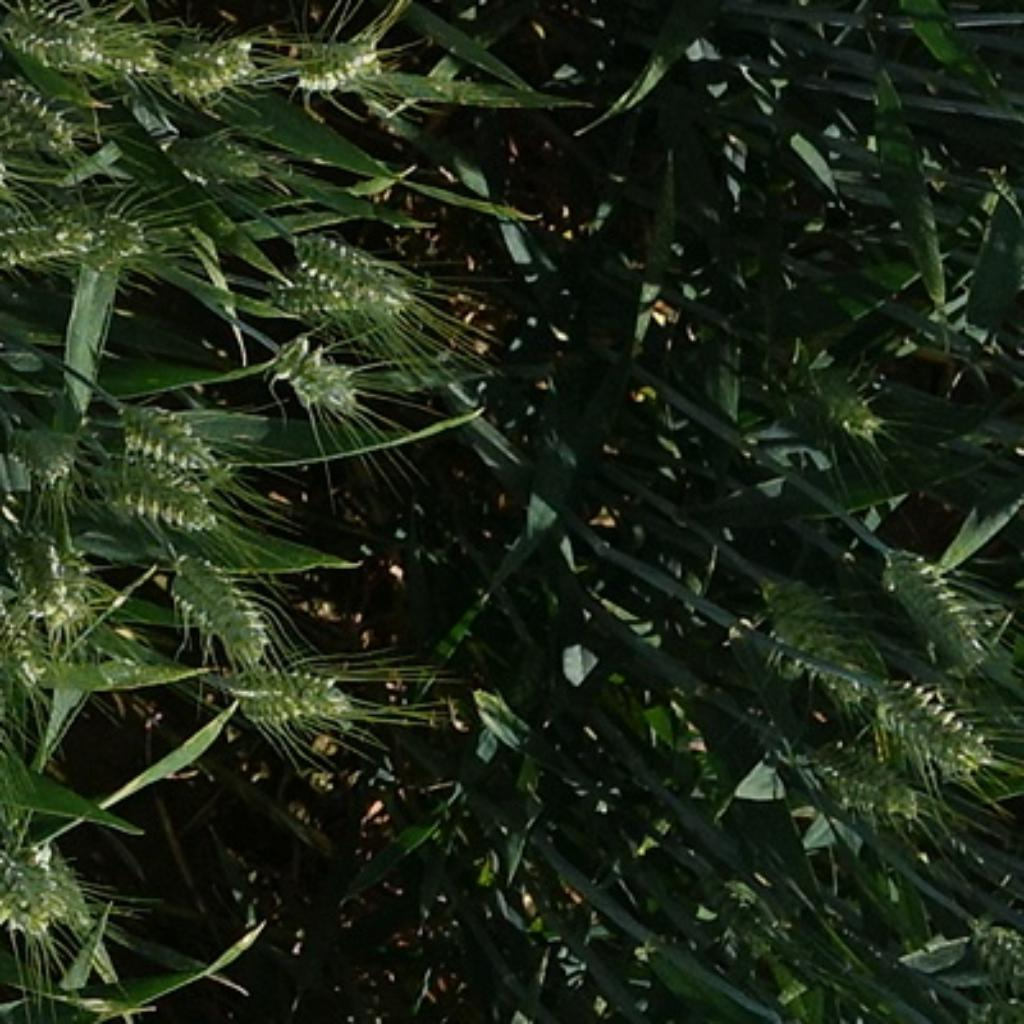0-0: (751, 568, 879, 715), (860, 532, 998, 663), (284, 228, 437, 337), (866, 674, 1007, 784), (0, 518, 105, 643), (163, 545, 273, 660), (802, 732, 930, 829), (788, 352, 904, 457), (220, 652, 360, 737), (92, 458, 225, 537), (107, 399, 230, 481), (162, 30, 267, 112), (0, 75, 90, 170), (259, 336, 359, 420), (283, 30, 388, 106), (1, 1, 111, 70), (151, 131, 271, 192), (0, 210, 102, 280), (4, 416, 91, 498), (952, 917, 1024, 1012), (257, 270, 381, 323), (0, 601, 53, 712), (39, 854, 103, 936), (97, 206, 170, 277), (0, 851, 49, 946), (94, 28, 168, 86)
